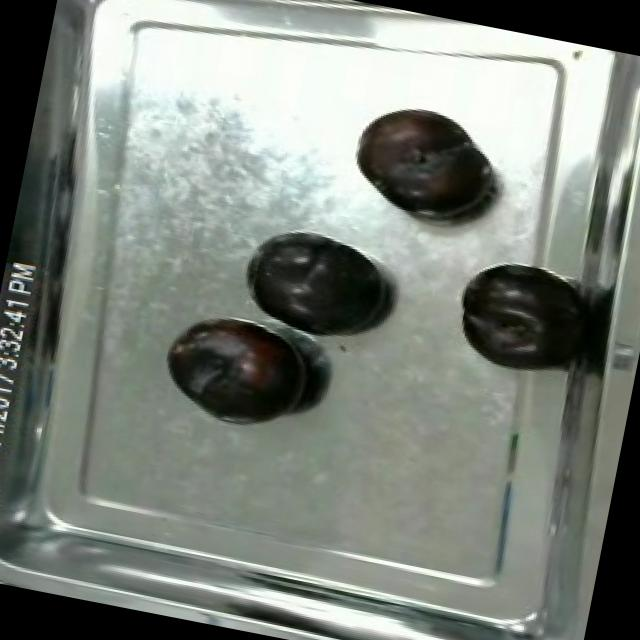Fruit: (150, 306, 322, 440), (341, 92, 504, 229), (237, 224, 399, 348), (446, 257, 590, 383), (621, 55, 640, 143)
